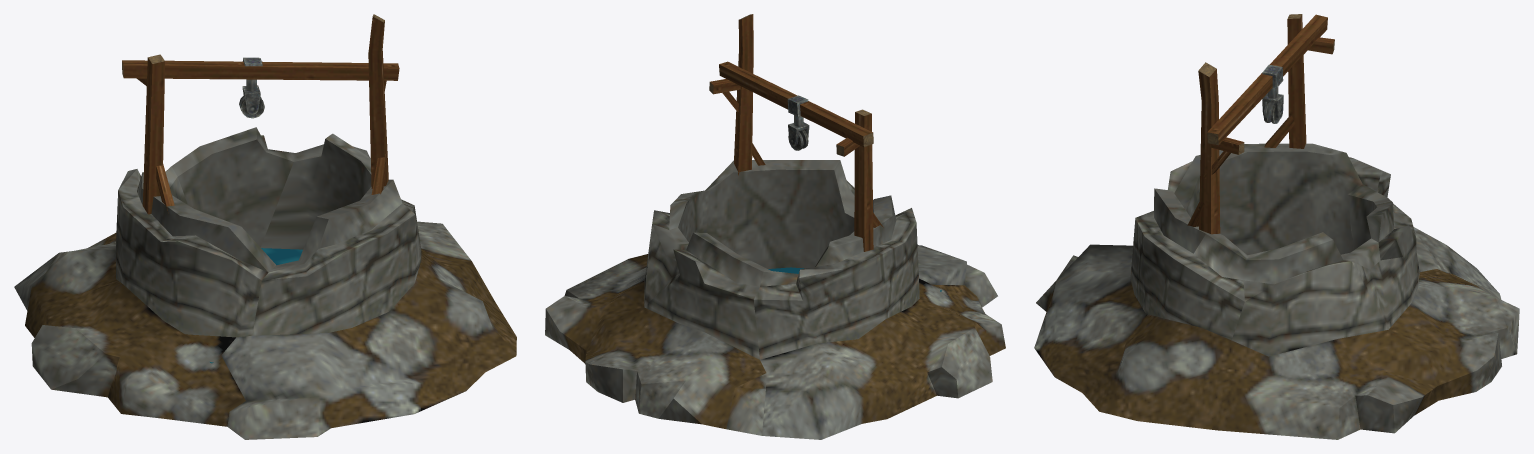
Rendered from zshh_shuijing_01.FBX.
3 renders of one model, left to right at view 1: azimuth 30°, elevation 25°; view 2: azimuth 150°, elevation 25°; view 3: azimuth 270°, elevation 25°, orthographic. The views are drawn at different scales.
Parts seen in each view (by area): view 1: zshh_shuijing_01; view 2: zshh_shuijing_01; view 3: zshh_shuijing_01.
Part boxes in pixels (x1,y1,x2,y2): zshh_shuijing_01: (14, 14, 516, 439); zshh_shuijing_01: (545, 14, 1005, 439); zshh_shuijing_01: (1034, 14, 1519, 439).
Size of the model in its own units: 191 by 146 by 189.
